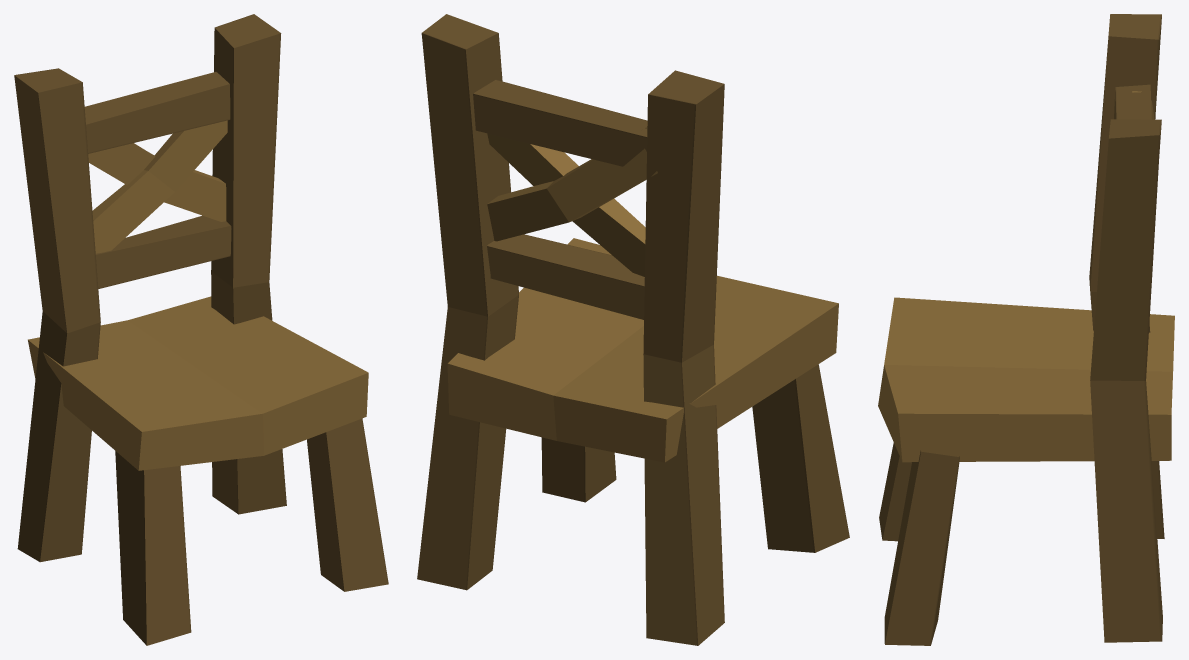
Rendered from wooden chair.fbx.
The picture shows the model from 3 angles, left to right: view 1: azimuth 30°, elevation 25°; view 2: azimuth 150°, elevation 25°; view 3: azimuth 270°, elevation 25°; orthographic projection. The views are drawn at different scales.
Visible parts, largest first — view 1: wooden-chair_LOD0; view 2: wooden-chair_LOD0; view 3: wooden-chair_LOD0.
Part boxes in pixels (bbox=[...]): wooden-chair_LOD0: bbox=[14, 14, 388, 645]; wooden-chair_LOD0: bbox=[417, 14, 849, 645]; wooden-chair_LOD0: bbox=[878, 14, 1174, 645].
Size of what is drawn, in the model's own units: 0.9205 by 1.71 by 0.9043.
